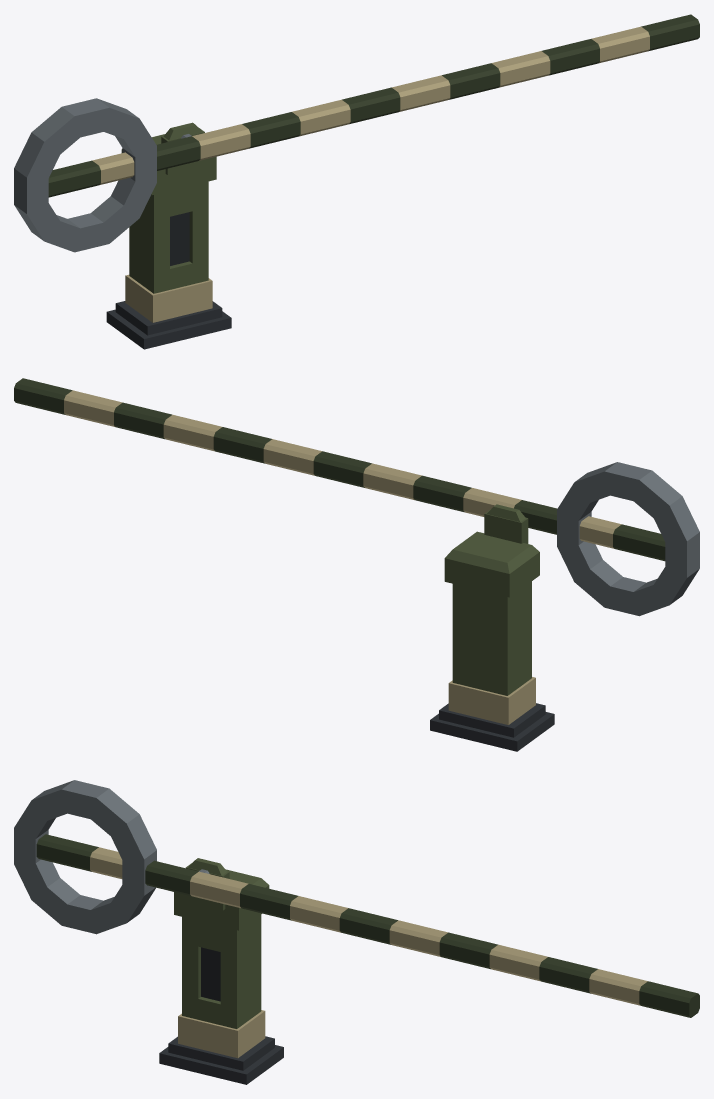
Rendered from checkpoint-barrier-pole-59c197.glb.
3 views of the same model, one above another, from view 1: azimuth 30°, elevation 25°; view 2: azimuth 150°, elevation 25°; view 3: azimuth 330°, elevation 25° (orthographic).
Visible parts, largest first — view 1: boom-arm, post; view 2: boom-arm, post; view 3: boom-arm, post.
Part boxes in pixels (x1=…): boom-arm: x1=14, y1=14, x2=699, y2=252; post: x1=106, y1=122, x2=231, y2=349; boom-arm: x1=14, y1=378, x2=699, y2=616; post: x1=430, y1=504, x2=554, y2=751; boom-arm: x1=14, y1=780, x2=699, y2=1017; post: x1=159, y1=858, x2=283, y2=1084.
Bounding box in the file's own units: 5.4 × 2.02 × 0.715.
